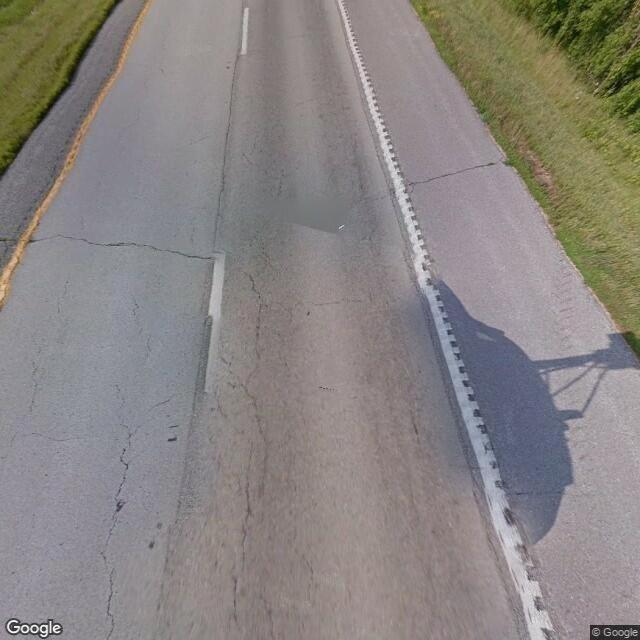GRIETA: (101, 384, 132, 639), (213, 54, 241, 247), (173, 360, 201, 525), (30, 234, 214, 258), (9, 336, 41, 447), (409, 161, 505, 185)
PIEL DE COCODRILO: (194, 252, 321, 639), (438, 279, 570, 545)
